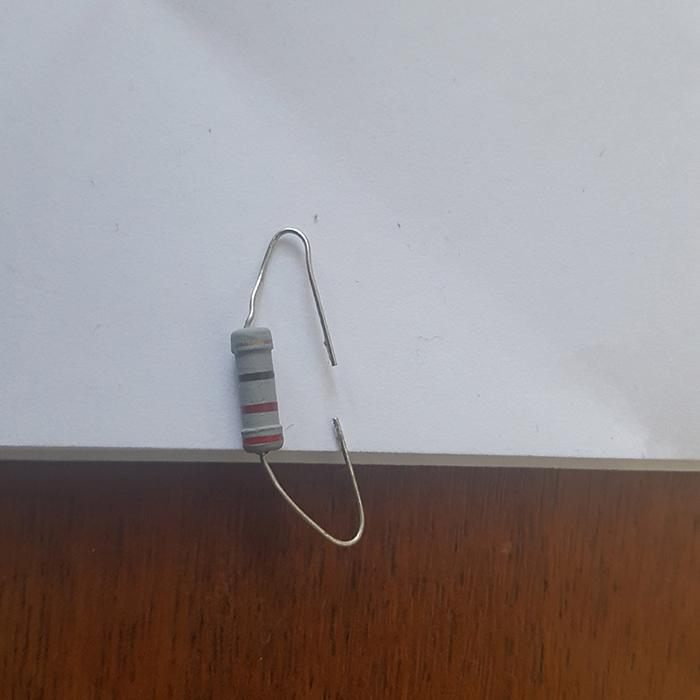resistor: (229, 324, 285, 453)
